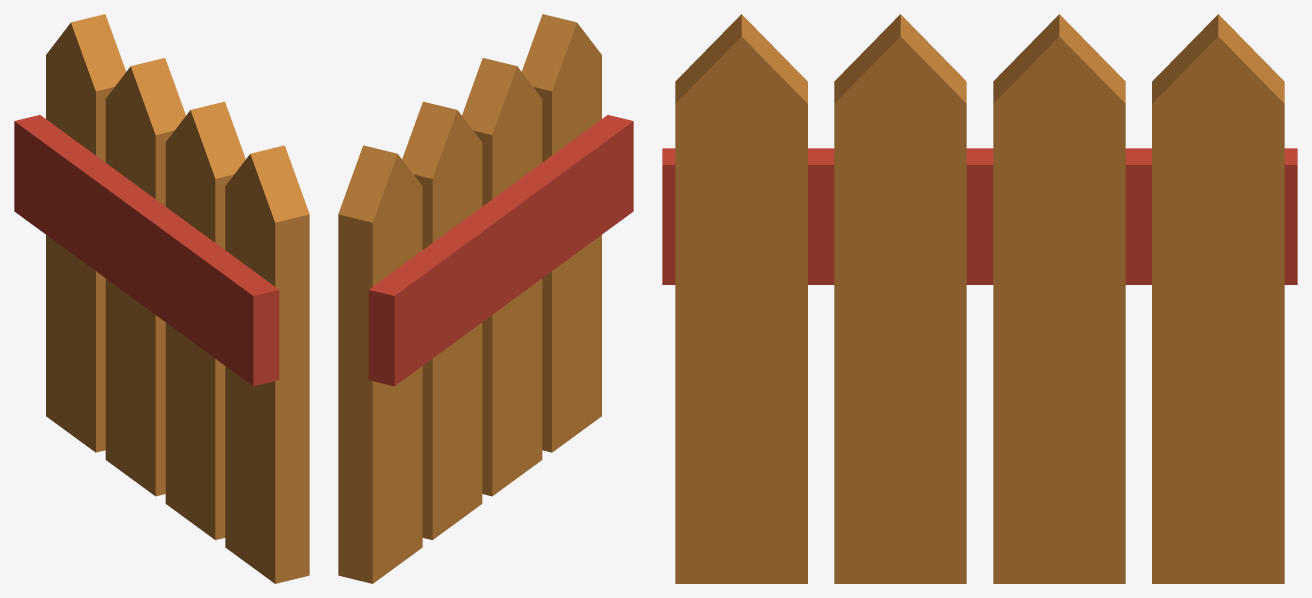
The model's file is Fence.fbx.
3 views of the same model, side by side, from view 1: azimuth 30°, elevation 25°; view 2: azimuth 150°, elevation 25°; view 3: azimuth 270°, elevation 25° (orthographic). The views are drawn at different scales.
Parts seen in each view (by area): view 1: Cube.008, Cube.004, Cube.011, Cube.001; view 2: Cube.001, Cube.008, Cube.011, Cube.004; view 3: Cube.008, Cube.011, Cube.004, Cube.001.
Boxes of the visible parts, bbox=[...] form: Cube.008: bbox=[159, 145, 309, 583]; Cube.004: bbox=[63, 58, 185, 496]; Cube.011: bbox=[111, 101, 245, 539]; Cube.001: bbox=[14, 14, 126, 452]; Cube.001: bbox=[338, 145, 443, 583]; Cube.008: bbox=[514, 14, 633, 452]; Cube.011: bbox=[462, 58, 542, 496]; Cube.004: bbox=[402, 101, 491, 539]; Cube.008: bbox=[662, 14, 834, 583]; Cube.011: bbox=[834, 14, 993, 583]; Cube.004: bbox=[993, 14, 1151, 583]; Cube.001: bbox=[1152, 14, 1297, 583].
Bounding box in the file's own units: 35.5 × 228 × 240.
